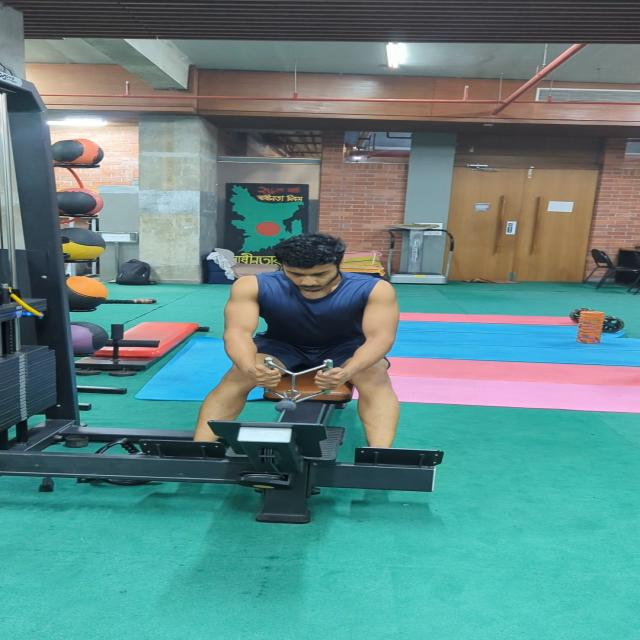Normal_RowingMachineExercise: (184, 230, 414, 466)
